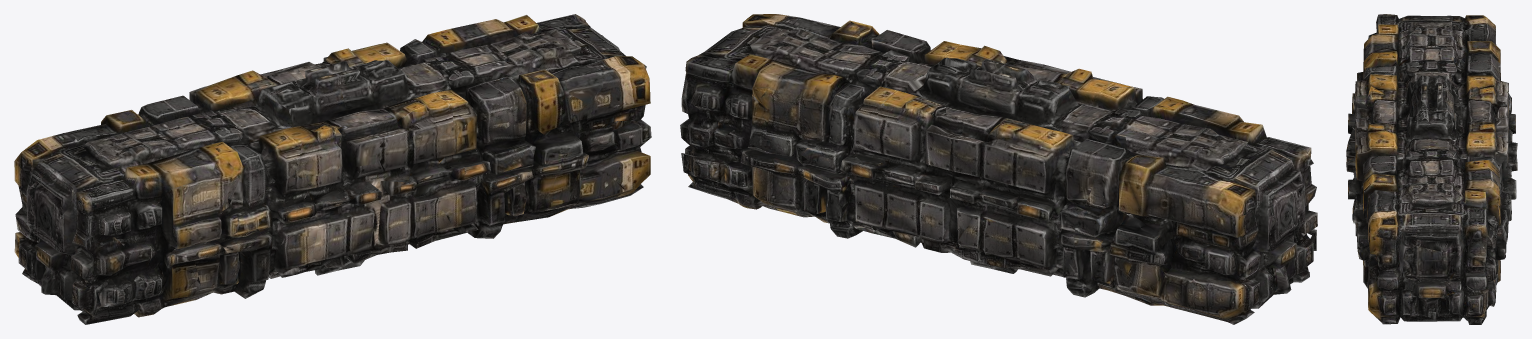
File: heavyCargo.glb
3 renders of one model, left to right at view 1: azimuth 30°, elevation 25°; view 2: azimuth 150°, elevation 25°; view 3: azimuth 270°, elevation 25°, orthographic. The views are drawn at different scales.
Size of the model in its own units: 1.9 by 0.612 by 0.624.
1 material, 1 textured.
